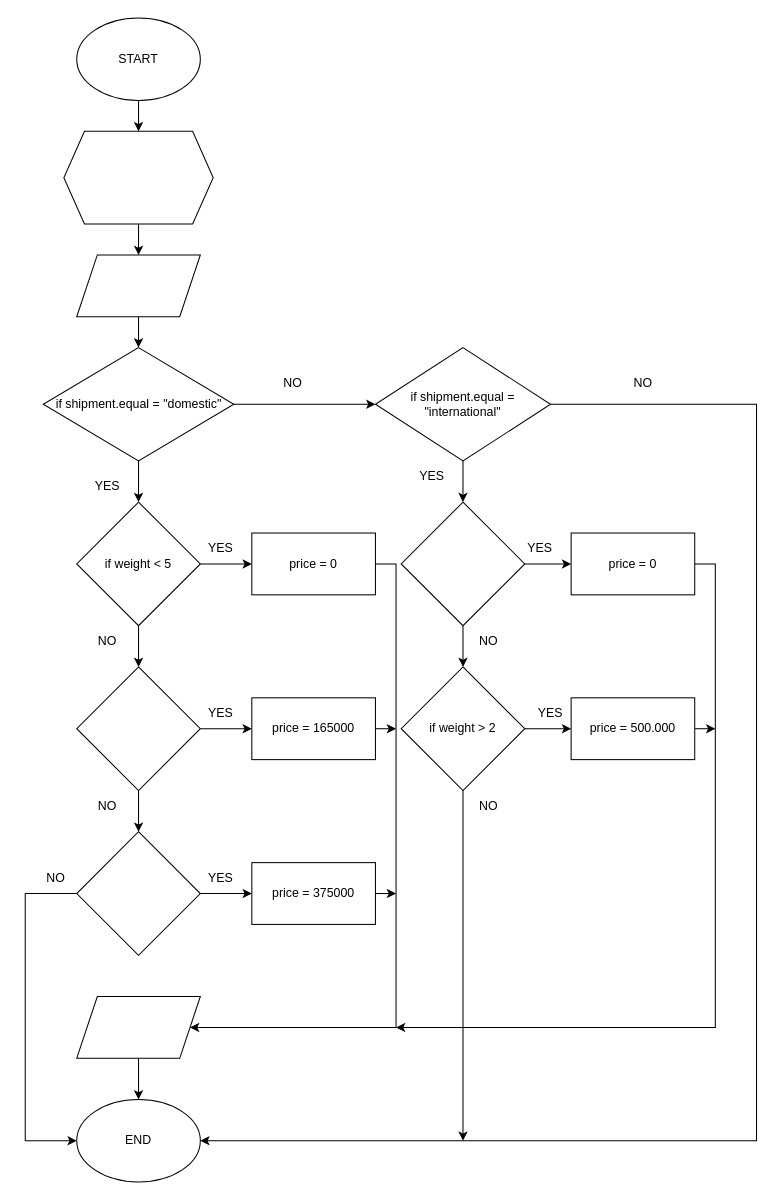
This 783x1200 diagram has some shape labels left out. The centre of each missing label's shape, as x and y in pixels:
if weight <= 2: the point at 462,563
if weight > 10: the point at 138,893
if weight >=5 && weight <= 10: the point at 138,728
input weigth; input shipment;: the point at 138,285
price: the point at 138,1026
String shipment; long weigth, price;: the point at 138,177
